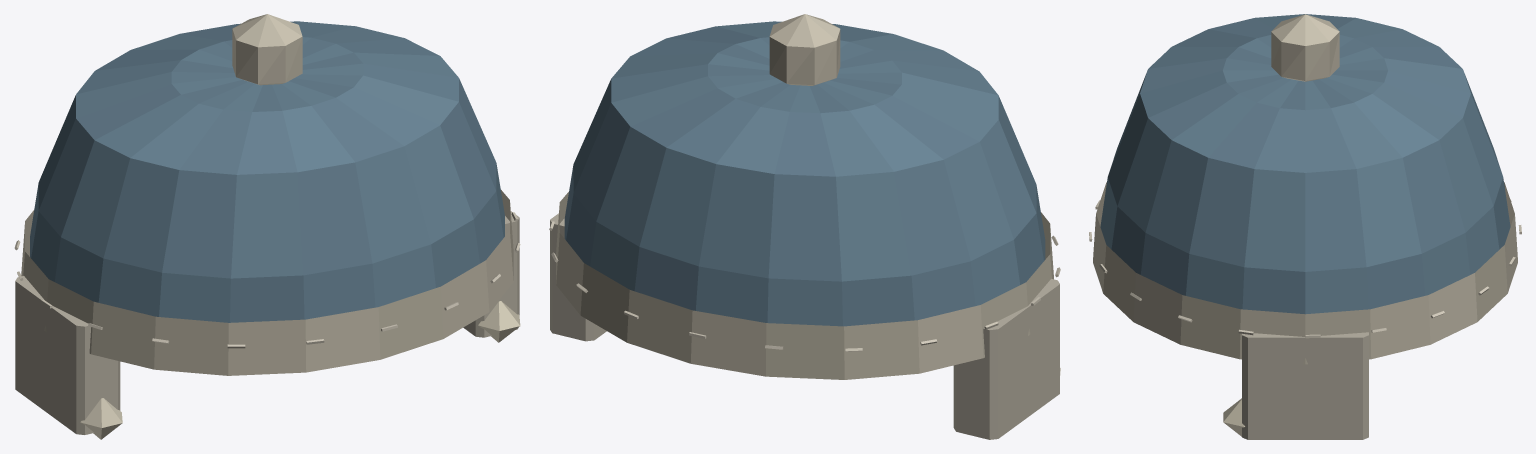
The model's file is hat_snow.glb.
3 renders of one model, left to right at view 1: azimuth 30°, elevation 25°; view 2: azimuth 150°, elevation 25°; view 3: azimuth 270°, elevation 25°, orthographic. The views are drawn at different scales.
Visible parts, largest first — view 1: hat_snow; view 2: hat_snow; view 3: hat_snow.
Boxes of the visible parts, x1,y1,x2,y2 form: hat_snow: (14, 14, 520, 439); hat_snow: (549, 14, 1060, 439); hat_snow: (1089, 14, 1521, 439).
Bounding box in the file's own units: 0.5228 × 0.391 × 0.4604.
